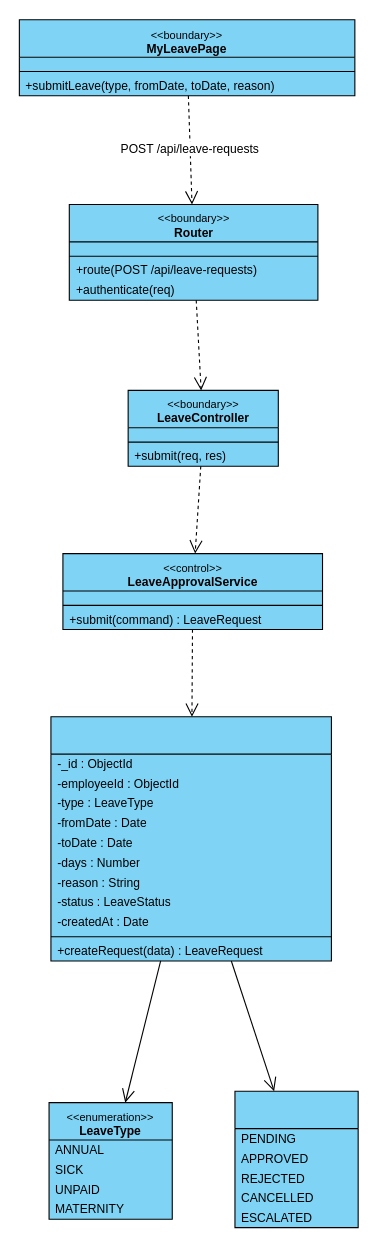
Image size: 377x1246. Some labels were removed from this diagram. Each missing label, with the box of its shape:
<<entity>> LeaveRequest: (50, 716, 331, 961)
<<enumeration>> LeaveStatus: (234, 1090, 358, 1228)
